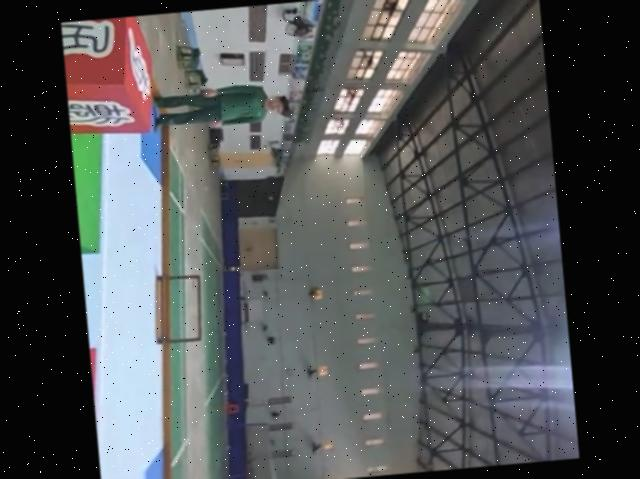R2 Fake: (60, 15, 156, 137)
R2 Real: (88, 334, 111, 471)
